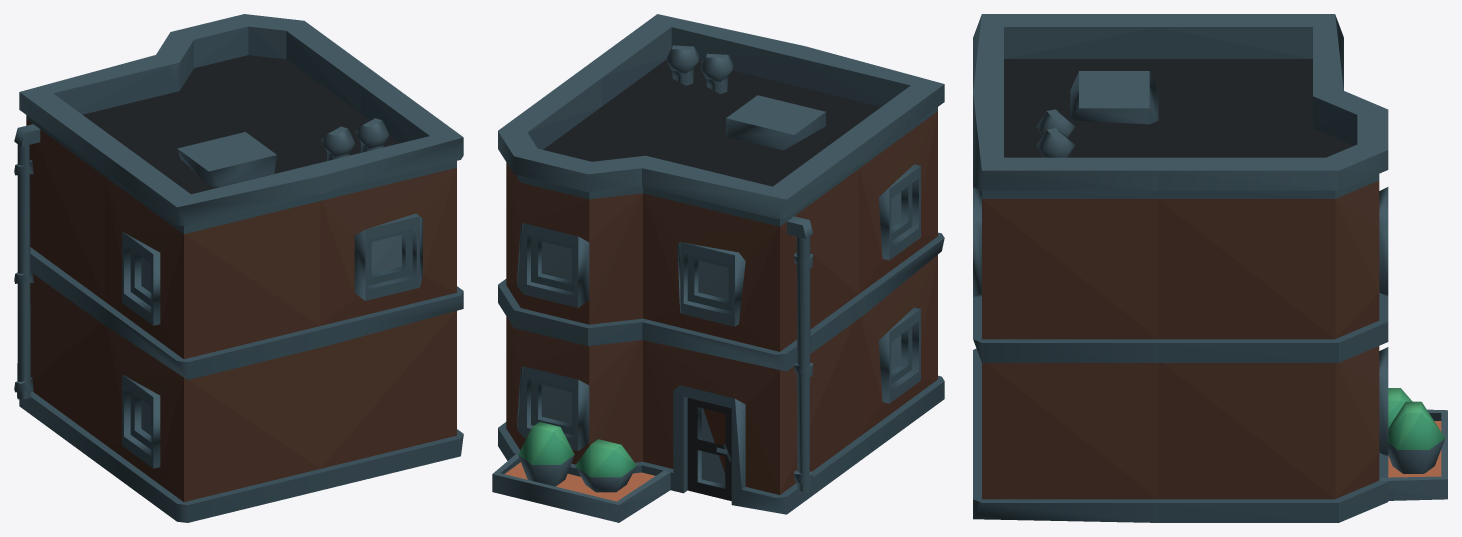
The model's file is building-c.mid.59a54528.glb.
3 views of the same model, side by side, from view 1: azimuth 30°, elevation 25°; view 2: azimuth 150°, elevation 25°; view 3: azimuth 270°, elevation 25° (orthographic). The views are drawn at different scales.
Parts seen in each view (by area): view 1: building-c; view 2: building-c; view 3: building-c.
Part boxes in pixels (<box>): building-c: <box>14,14,463,522</box>; building-c: <box>492,14,944,522</box>; building-c: <box>973,14,1447,522</box>.
Size of the model in its own units: 10.6 by 10.72 by 12.9.
